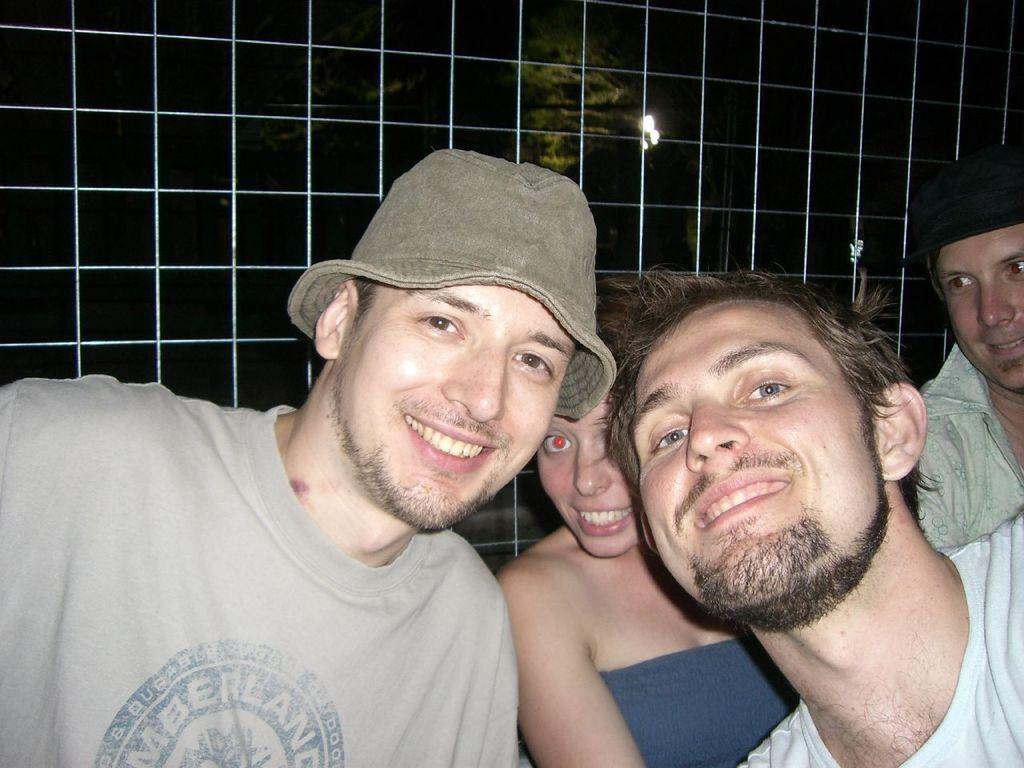Hat: (288, 146, 612, 418)
